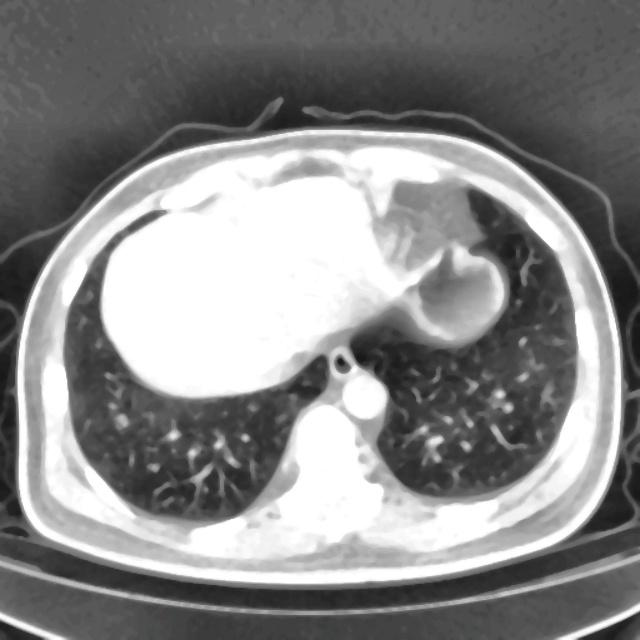covid: (14, 113, 626, 583)
